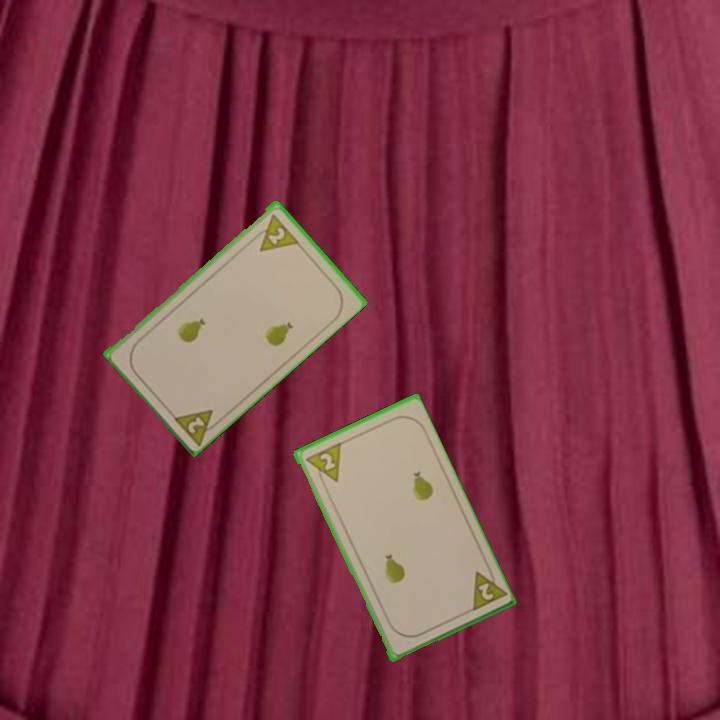2p: (168, 405, 225, 447), (301, 439, 343, 490), (264, 223, 288, 247), (474, 579, 496, 603)
